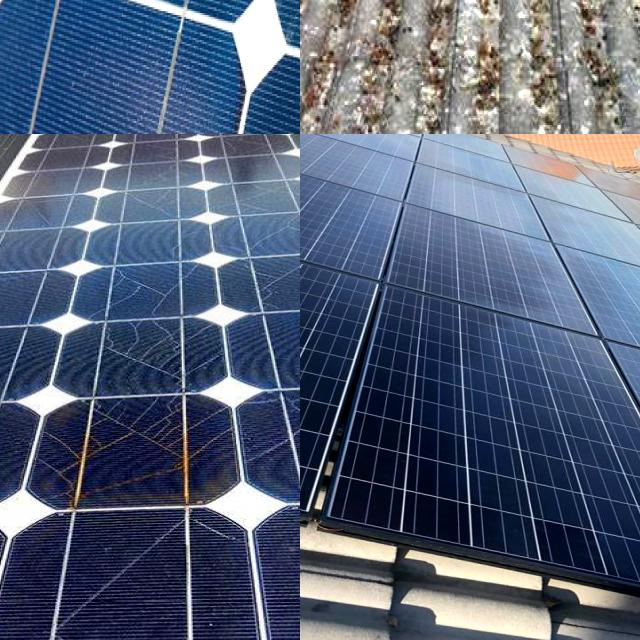bird: (533, 0, 614, 29), (442, 0, 520, 24), (300, 0, 329, 37), (300, 0, 333, 22), (300, 0, 313, 31)
crack: (352, 271, 640, 622), (365, 176, 637, 332), (0, 0, 300, 134), (300, 136, 472, 318), (300, 134, 464, 233), (550, 238, 640, 399), (300, 134, 473, 189)
shadow: (36, 358, 231, 534)
